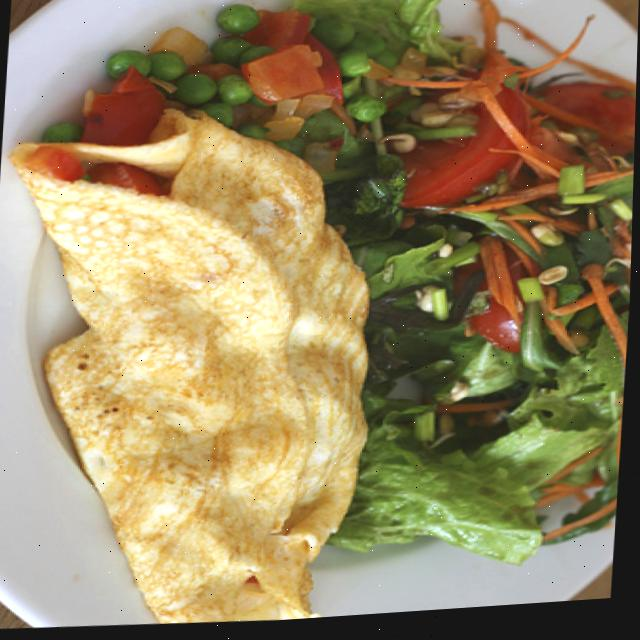鸡蛋料理: (1, 72, 430, 639)
